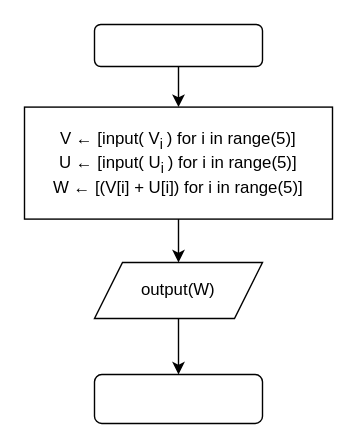
This 357x448 diagram has some shape labels left out. The shapes that lost their labels are listed below. From the top down, each one's centre as x and y in pixels, then its label:
At [177,44]: "Mulai".
At [177,398]: "Selesai".
